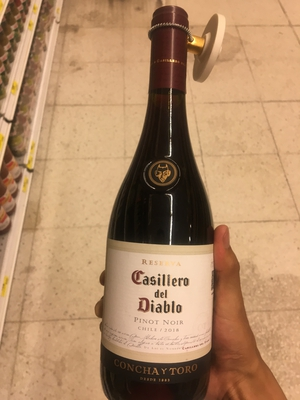casillero del diablo pinot noir: (86, 5, 235, 385)
